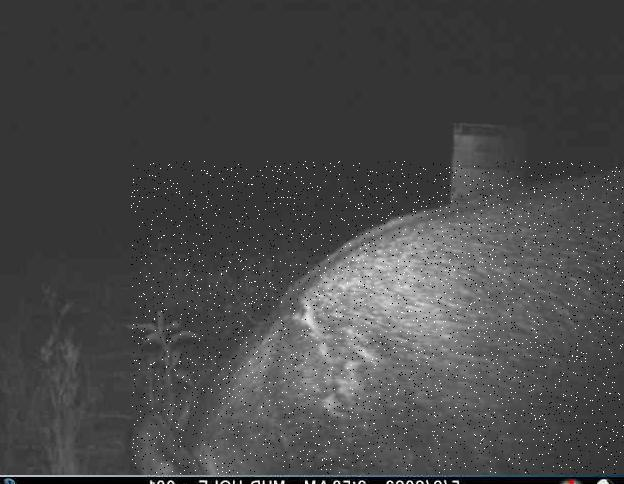Hog: (131, 161, 624, 474)
